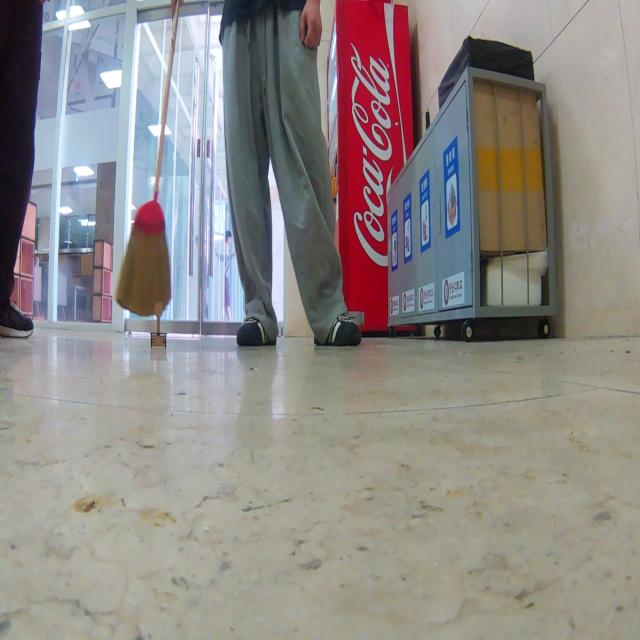target: (150, 301, 167, 347)
